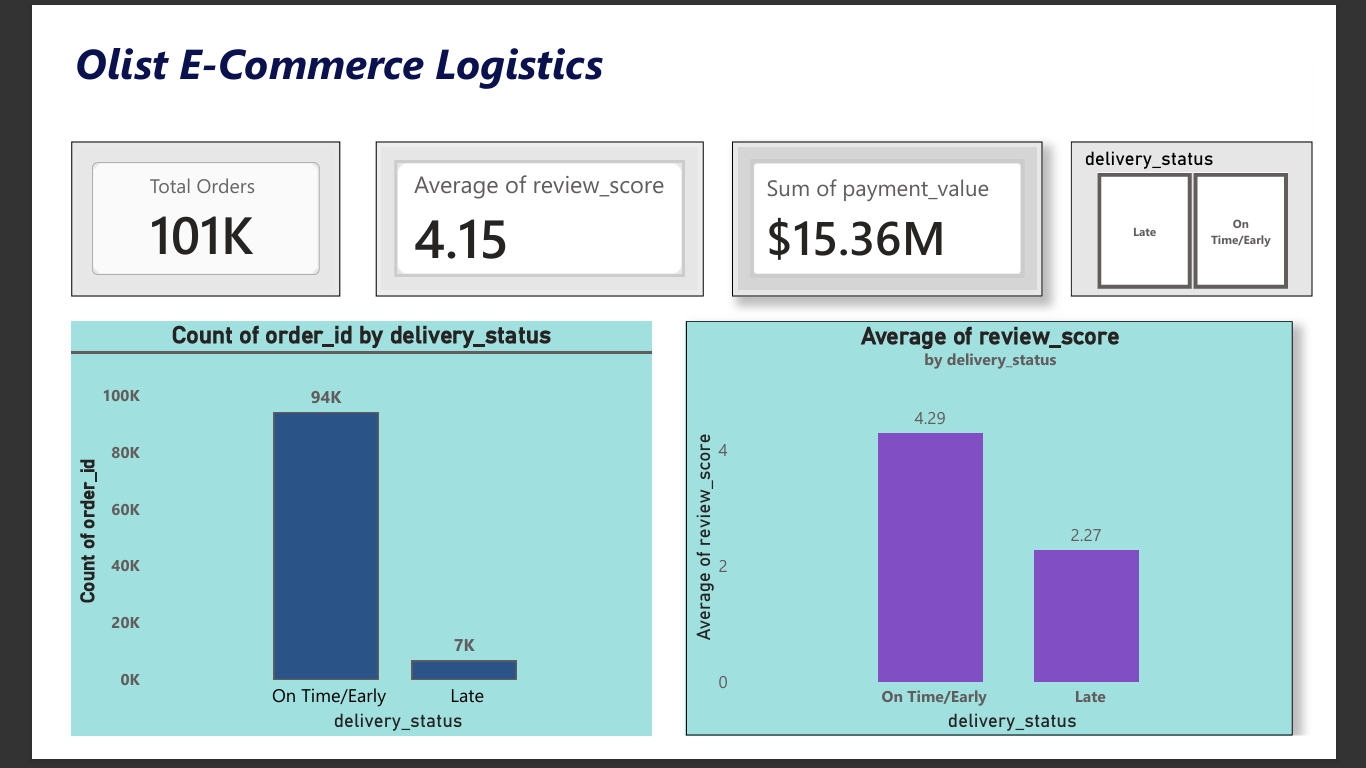

What the dashboard file says about the page in this screenshot:
{"tool":"powerbi","page":{"name":"Page 1","canvas":[1280,720],"ordinal":0},"visuals":[{"type":"textbox","box":[14.8,0,574.7,82.7],"z":0},{"type":"cardVisual","fields":{"Data":["Avg(olist_db olist_clean_analytics.review_score)"]},"box":[325.7,115,334.5,157.5],"z":1000},{"type":"clusteredColumnChart","fields":{"Category":["olist_db olist_clean_analytics.delivery_status"],"Y":["CountNonNull(olist_db olist_clean_analytics.order_id)"]},"box":[16.4,297.6,590.2,423.5],"z":2000},{"type":"clusteredColumnChart","fields":{"Category":["olist_db olist_clean_analytics.delivery_status"],"Y":["Avg(olist_db olist_clean_analytics.review_score)"]},"box":[642,298,618.3,421.7],"z":3000},{"type":"slicer","fields":{"Values":["olist_db olist_clean_analytics.delivery_status"]},"box":[1033.6,115,246,157.5],"z":4000},{"type":"cardVisual","fields":{"Data":["olist_db olist_clean_analytics.Total Orders"]},"box":[15.9,115,274.3,157.5],"z":5000},{"type":"cardVisual","fields":{"Data":["Sum(olist_db olist_clean_analytics.payment_value)"]},"box":[688.5,115,316.8,157.5],"z":6000}]}

Visuals, with their boxes in screenshot pixels (x1, y1, x2, y2), scaled from the page's 1280x720 canvas onto the 1366x768 screenshot:
textbox: Rect(16, 0, 629, 88)
cardVisual - Avg(olist_db olist_clean_analytics.review_score): Rect(348, 123, 705, 291)
clusteredColumnChart - olist_db olist_clean_analytics.delivery_status x CountNonNull(olist_db olist_clean_analytics.order_id): Rect(18, 317, 647, 767)
clusteredColumnChart - olist_db olist_clean_analytics.delivery_status x Avg(olist_db olist_clean_analytics.review_score): Rect(685, 318, 1345, 767)
slicer - olist_db olist_clean_analytics.delivery_status: Rect(1103, 123, 1365, 291)
cardVisual - olist_db olist_clean_analytics.Total Orders: Rect(17, 123, 310, 291)
cardVisual - Sum(olist_db olist_clean_analytics.payment_value): Rect(735, 123, 1073, 291)
